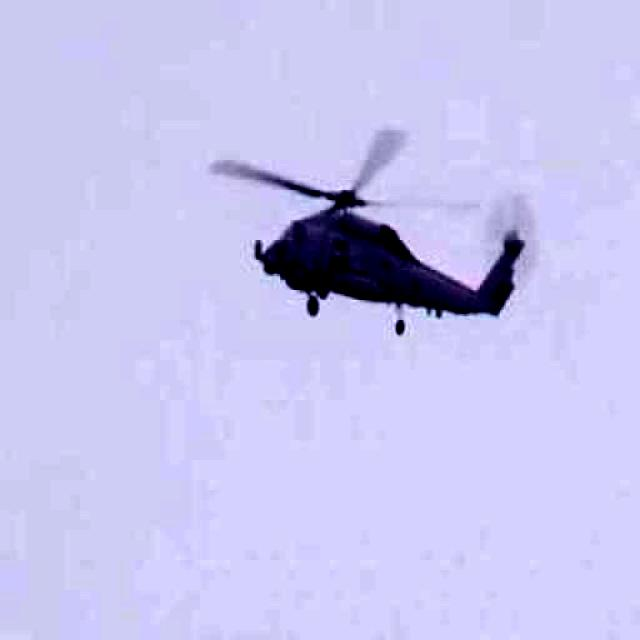drone: (176, 70, 564, 362)
